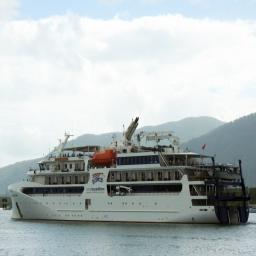cruises: (8, 120, 253, 232)
